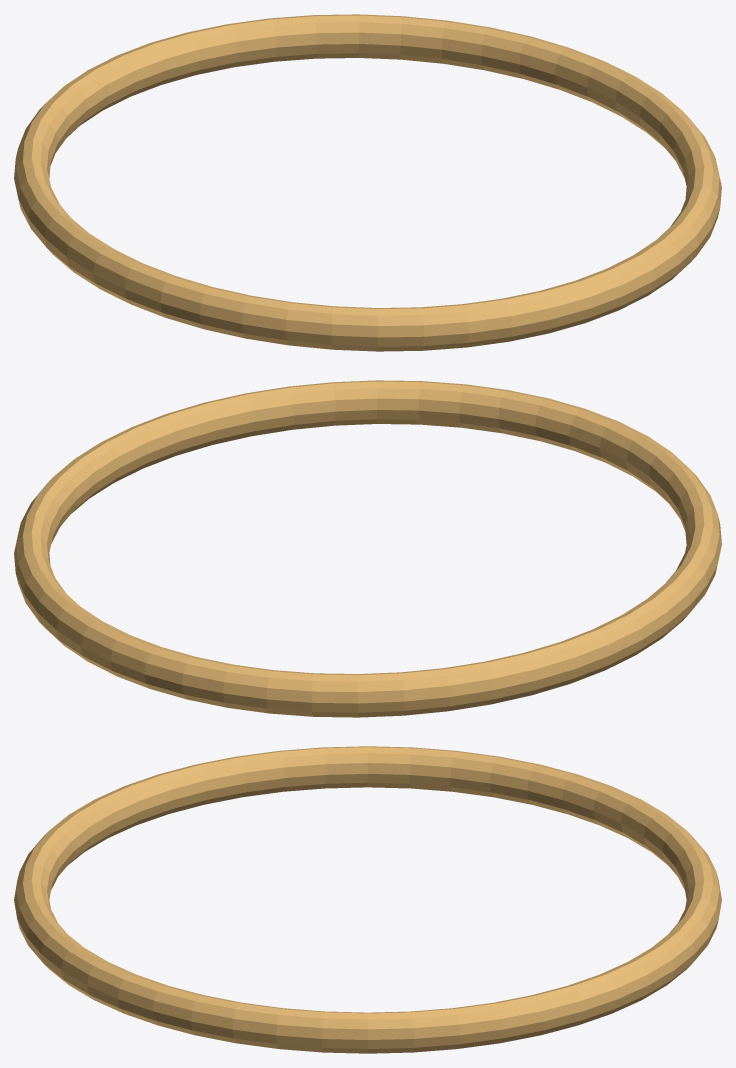
Rendered from Rope_Lasso_01.fbx.
3 renders of one model, top to bottom at view 1: azimuth 30°, elevation 25°; view 2: azimuth 150°, elevation 25°; view 3: azimuth 270°, elevation 25°, orthographic. The views are drawn at different scales.
Visible parts, largest first — view 1: Rope_Lasso_Mesh; view 2: Rope_Lasso_Mesh; view 3: Rope_Lasso_Mesh.
Boxes of the visible parts, <box> form: Rope_Lasso_Mesh: <box>14,14,721,351</box>; Rope_Lasso_Mesh: <box>14,380,721,717</box>; Rope_Lasso_Mesh: <box>14,746,721,1053</box>.
Bounding box in the file's own units: 30.44 × 1.99 × 32.49.
